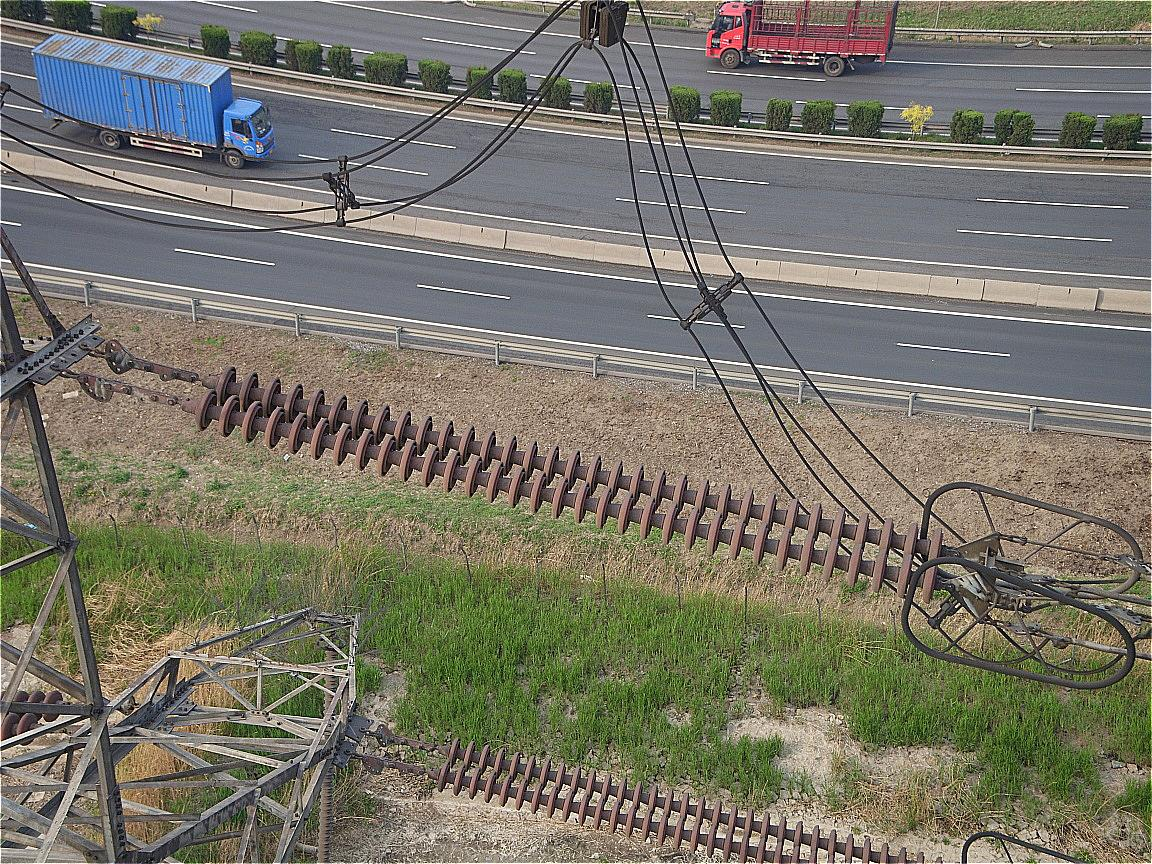insultor1: (195, 363, 944, 602), (435, 739, 949, 863)
